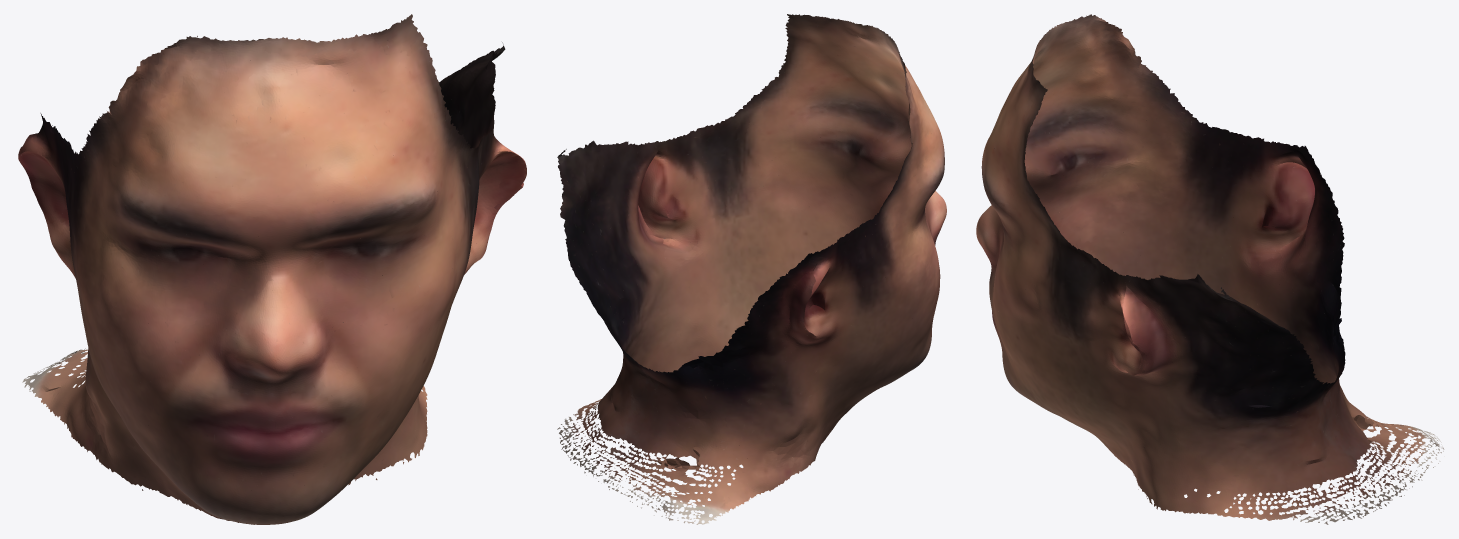
The model's file is Kevin_Photogrammetry.fbx.
The picture shows the model from 3 angles, left to right: view 1: azimuth 30°, elevation 25°; view 2: azimuth 150°, elevation 25°; view 3: azimuth 270°, elevation 25°; orthographic projection. The views are drawn at different scales.
Visible parts, largest first — view 1: texturedMesh; view 2: texturedMesh; view 3: texturedMesh.
Part boxes in pixels (box(x1,y1,x2,y2)): texturedMesh: box(18, 14, 526, 524); texturedMesh: box(557, 14, 946, 524); texturedMesh: box(976, 14, 1444, 524).
Size of the model in its own units: 32.88 by 36.06 by 37.9.
1 material, 1 textured.
